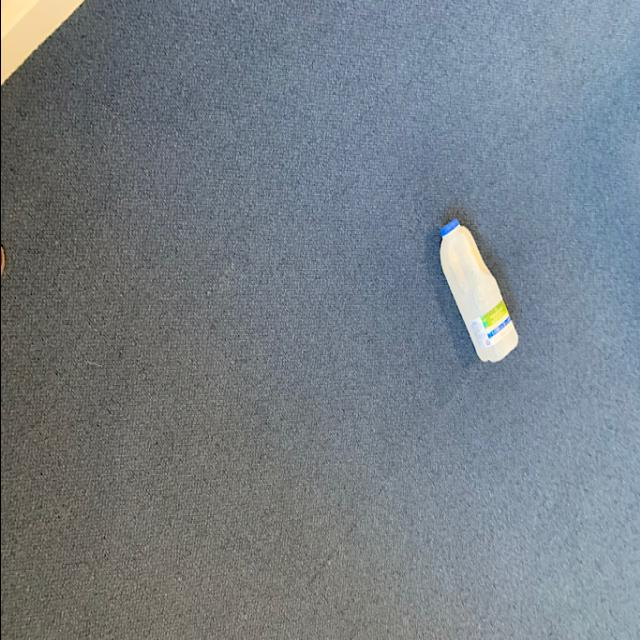litter: (430, 218, 518, 368)
